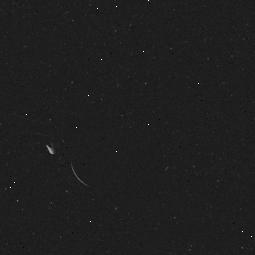proba_3_csc: (20, 99, 137, 215)
